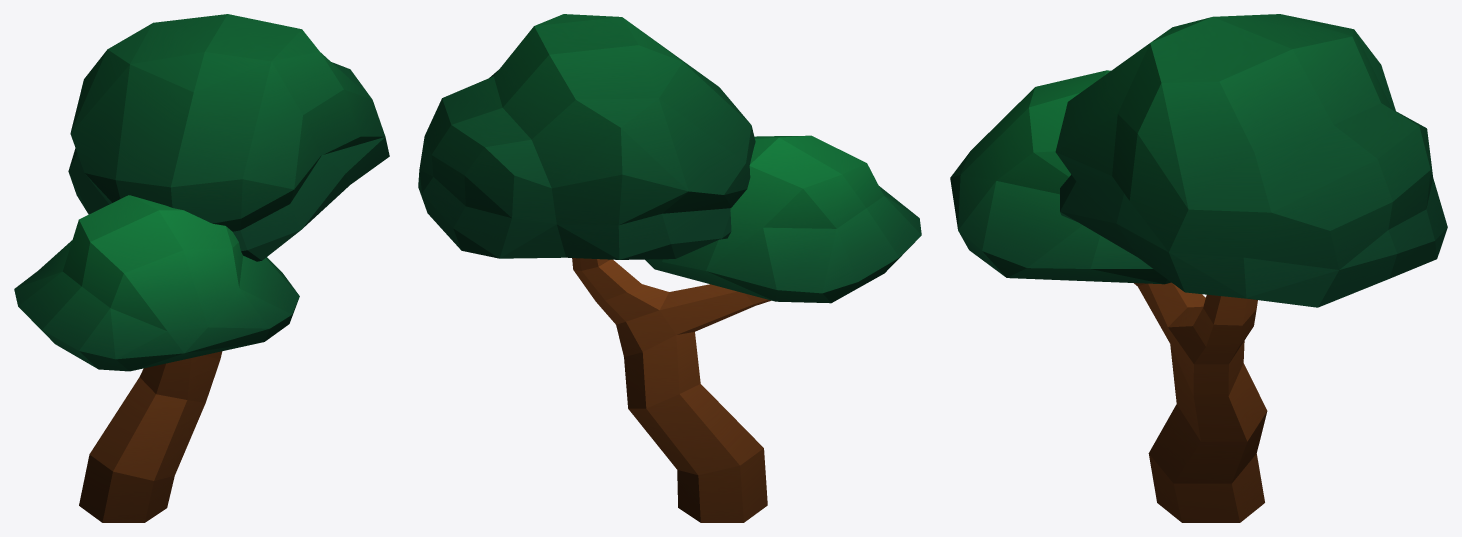
Rendered from Tree6.fbx.
3 views of the same model, side by side, from view 1: azimuth 30°, elevation 25°; view 2: azimuth 150°, elevation 25°; view 3: azimuth 270°, elevation 25° (orthographic). The views are drawn at different scales.
Visible parts, largest first — view 1: tree_C1; view 2: tree_C1; view 3: tree_C1.
Part boxes in pixels (left/top/right/bottom): tree_C1: left=14, top=14, right=389, bottom=522; tree_C1: left=418, top=14, right=921, bottom=522; tree_C1: left=950, top=14, right=1447, bottom=522.
Size of the model in its own units: 339 by 356 by 299.
